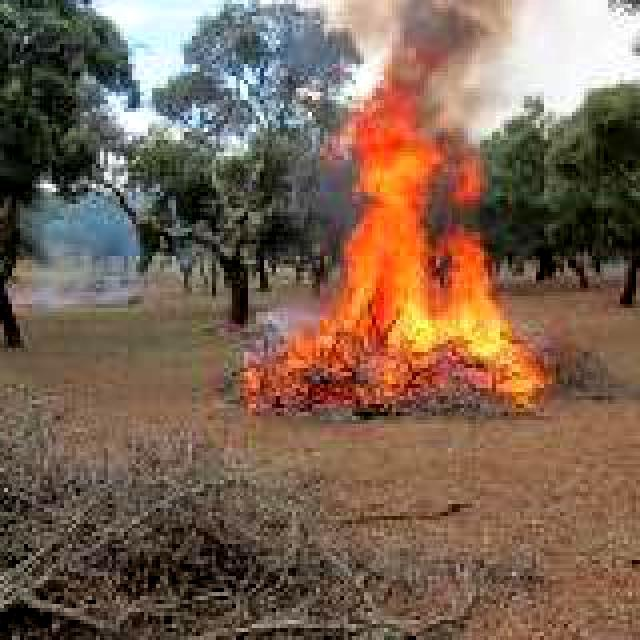smoke: (288, 0, 568, 134)
